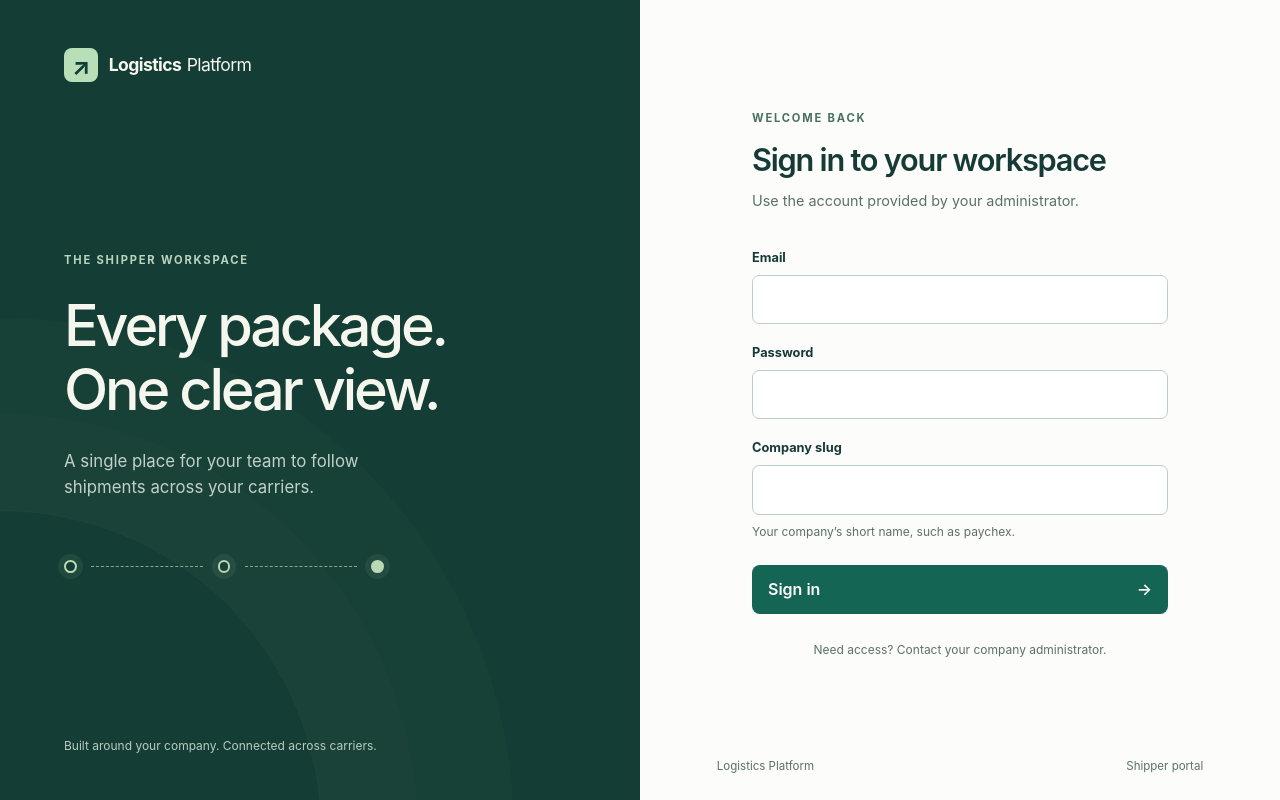
Test: prevents duplicate submissions while loading
The width and height of the screenshot is (1280, 800).
Expected: the button "Sign in →" is shown, [752,565,1168,614]
Type "admin@paychex.example" into the field labelled "Email". click: (960,299)
box: [752,275,1168,324]
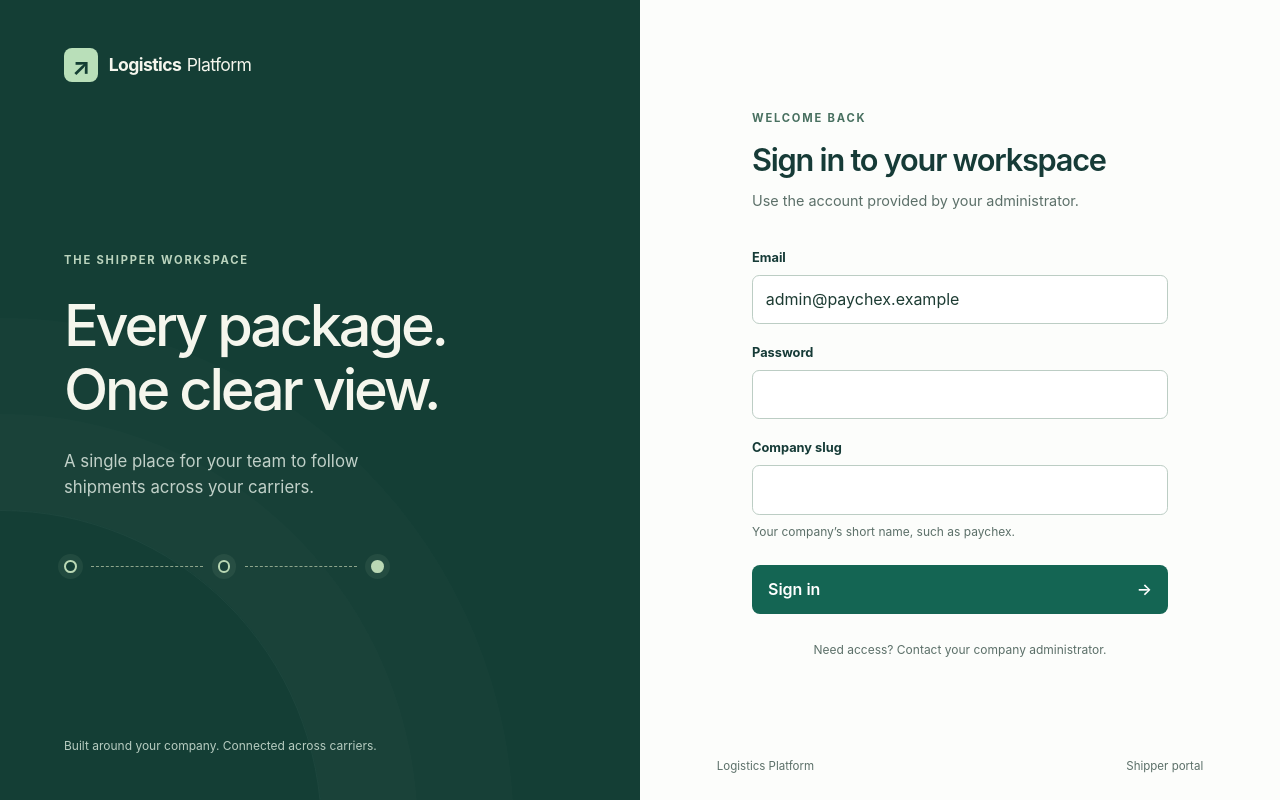
Type "synthetic test password" into the password field labelled "Password". click: (960,395)
box: [752,370,1168,419]
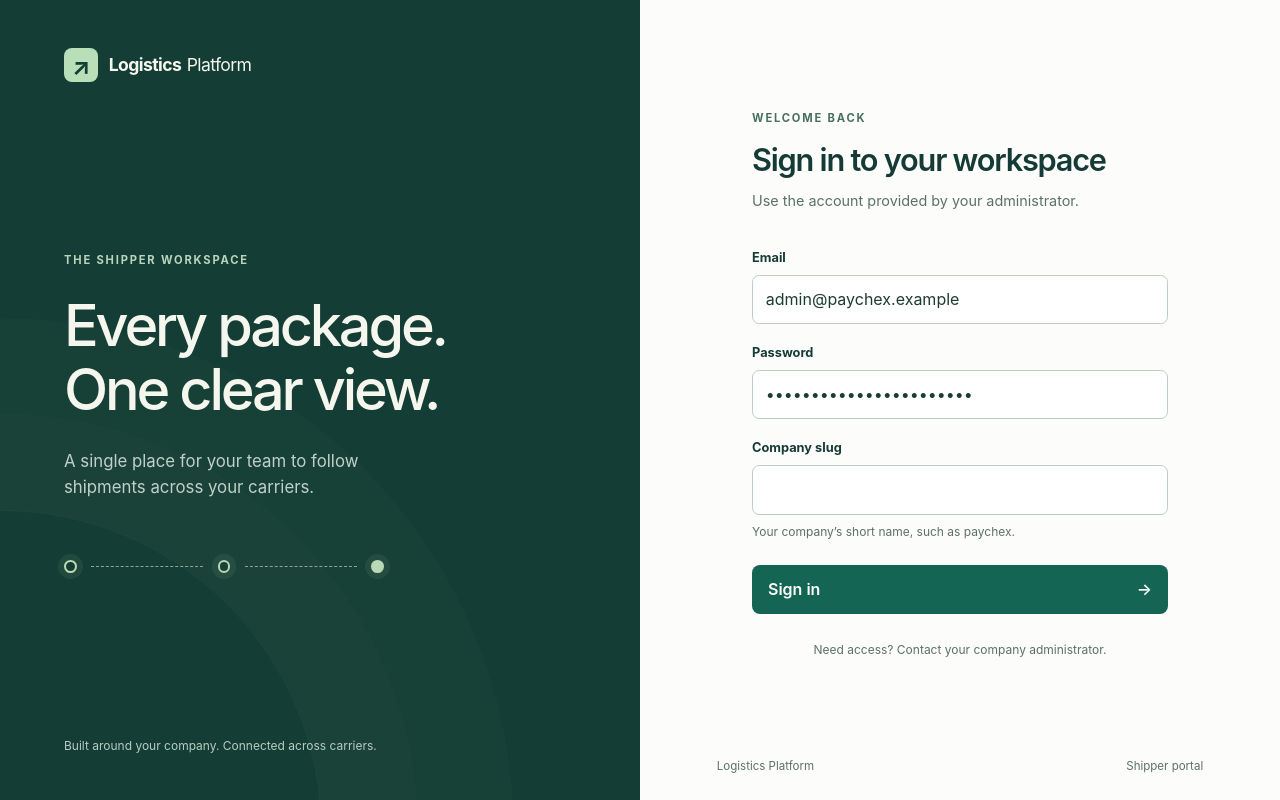
Type "paychex" into the field labelled "Company slug". click: (960,490)
box: [752,465,1168,515]
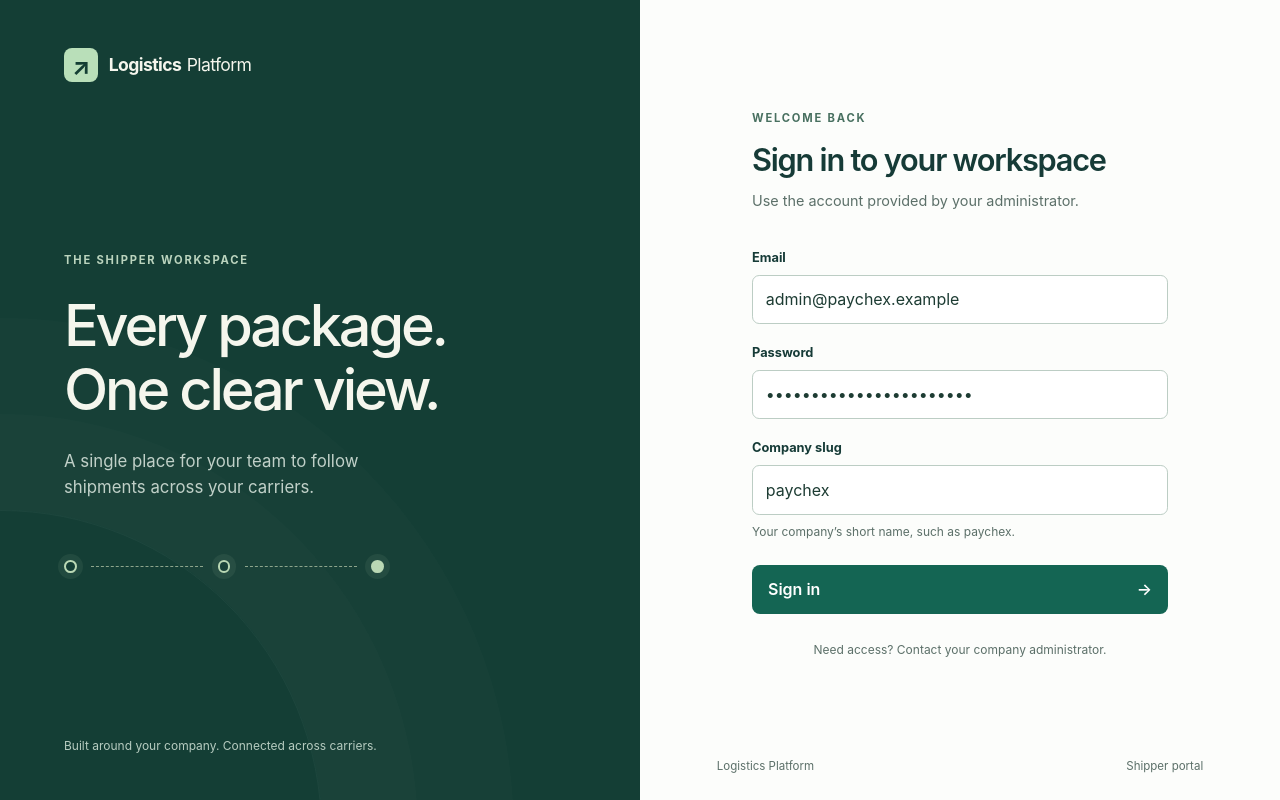
Click the button "Sign in →". click: (794,589)
box: [752,565,1168,614]
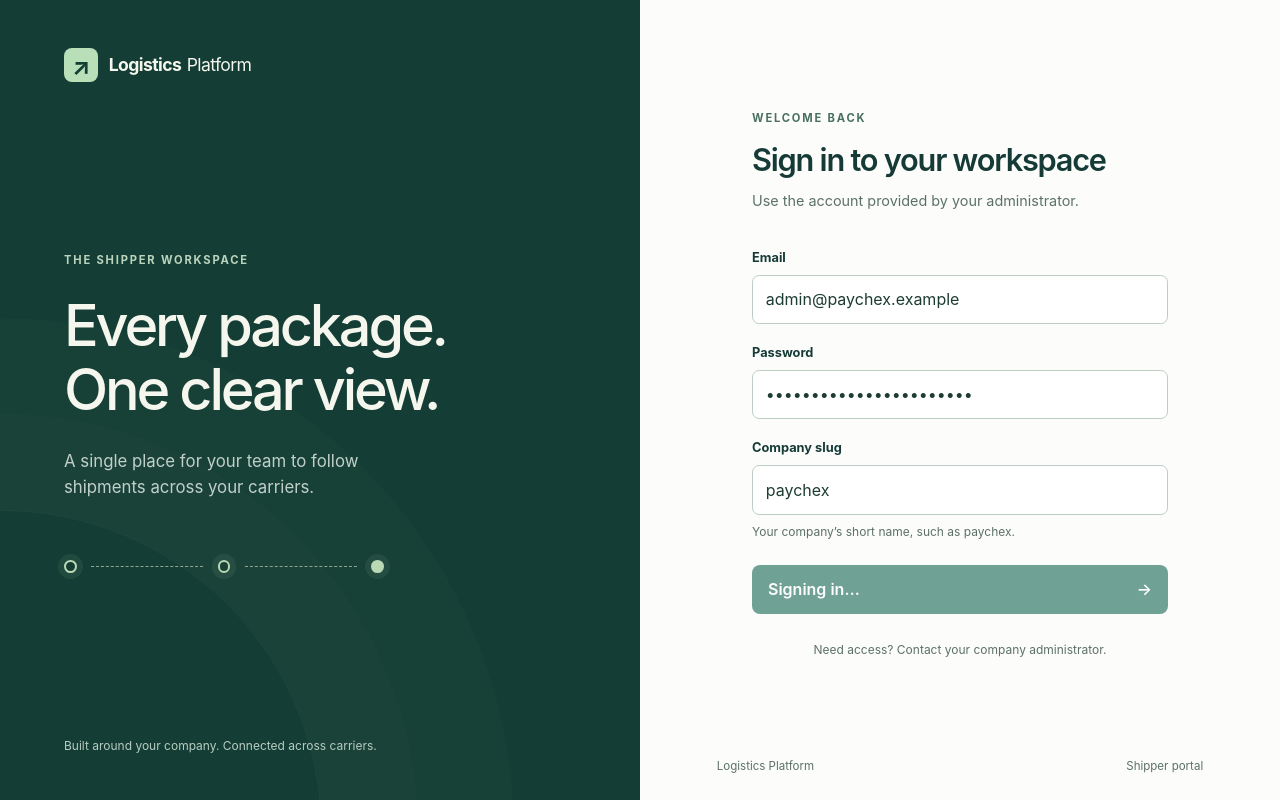
Now the button "Signing in… →" is disabled, box [752,565,1168,614]
Submit the form named "Signing in…", box [752,248,1168,614]
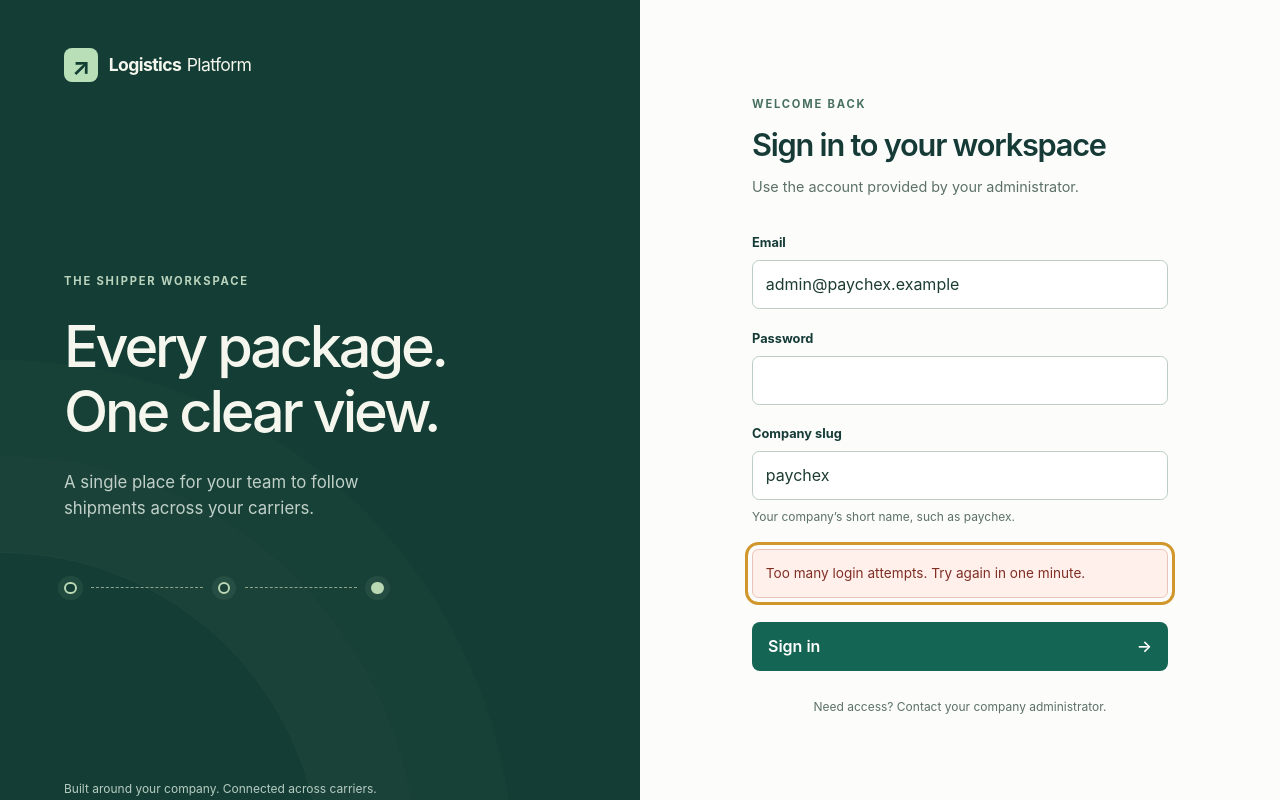
Now the message shows "Too many login attempts", box [766,565,1085,581]
